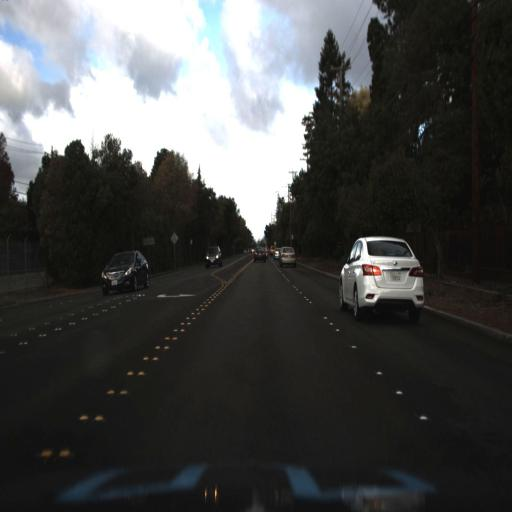car: (339, 232, 422, 332), (99, 247, 150, 291), (276, 243, 295, 271), (203, 245, 225, 265), (251, 247, 267, 265)
